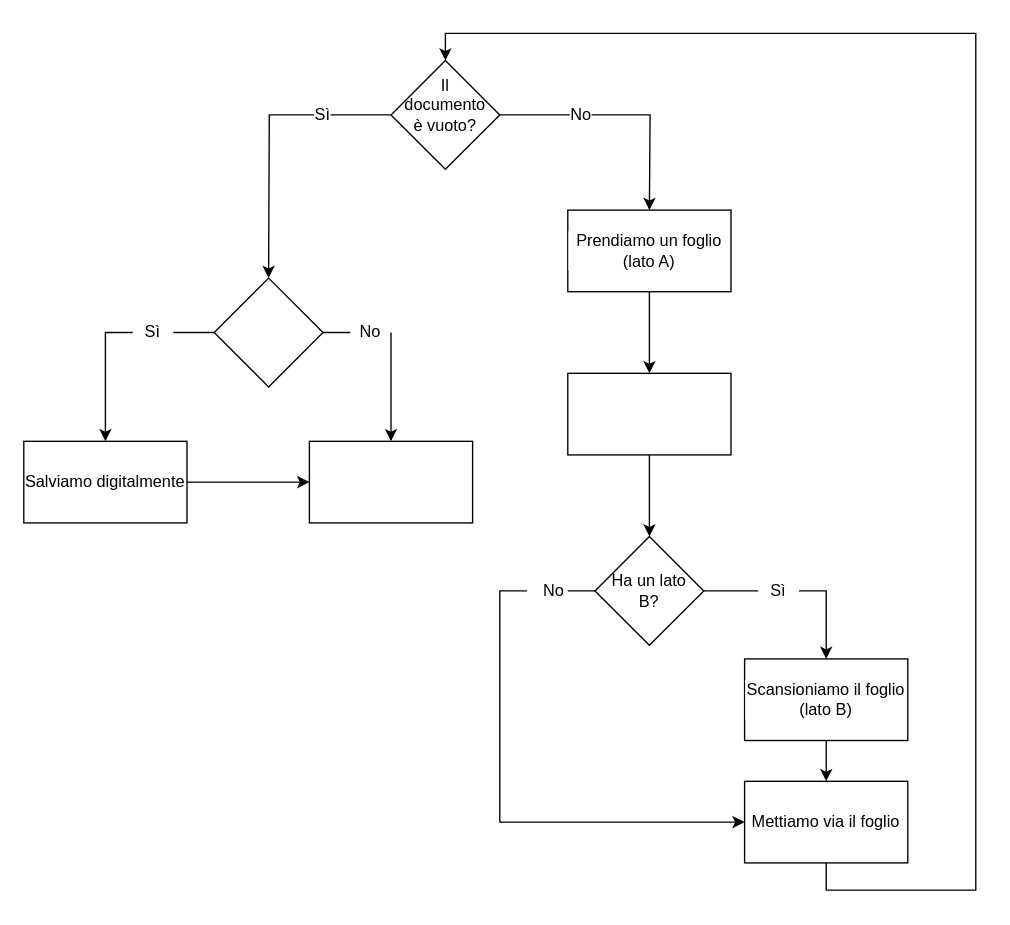
The diagram is 1010 pixels wide and 925 high, and some of its shapes have lost their labels. Here are the shapes that lost their labels. From the top down, the centre of each, then its label:
(268,332): Abbiamo scansionato almeno un foglio?
(648,413): Scansioniamo il foglio (lato A)
(390,481): Abbiamo finito
